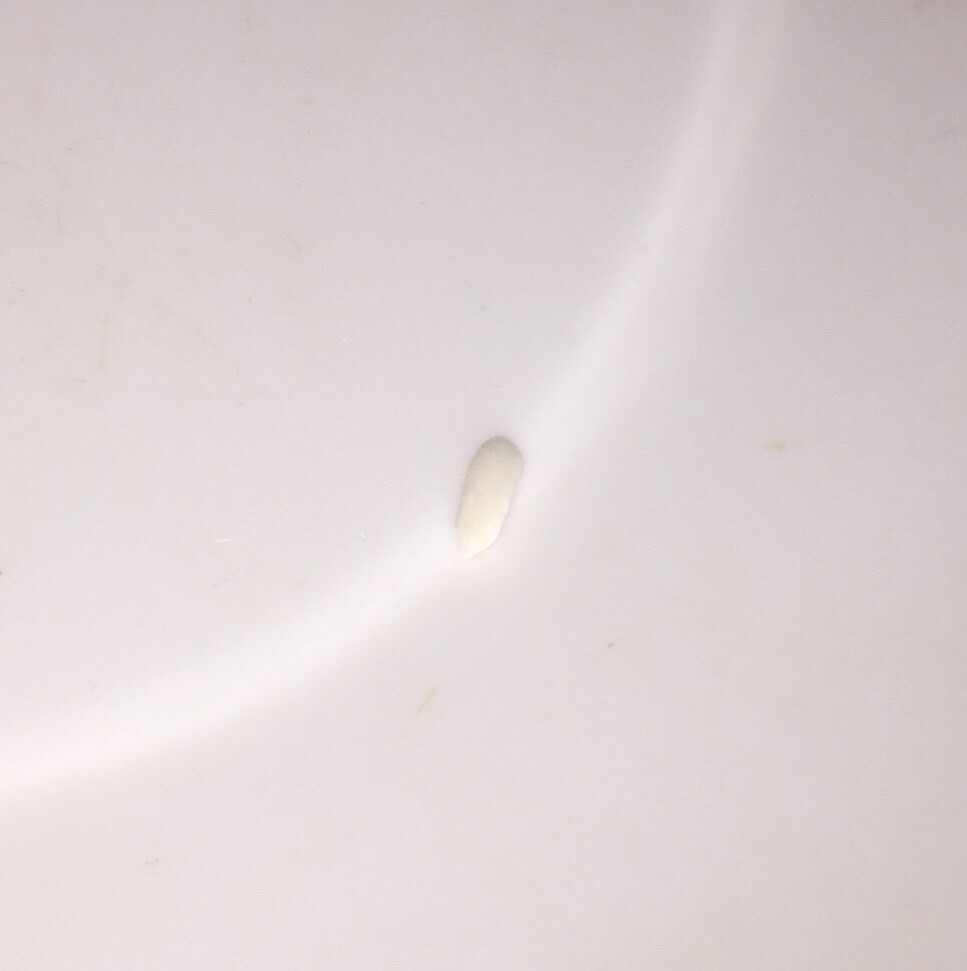Gao Nep Sap: (439, 428, 530, 566)
